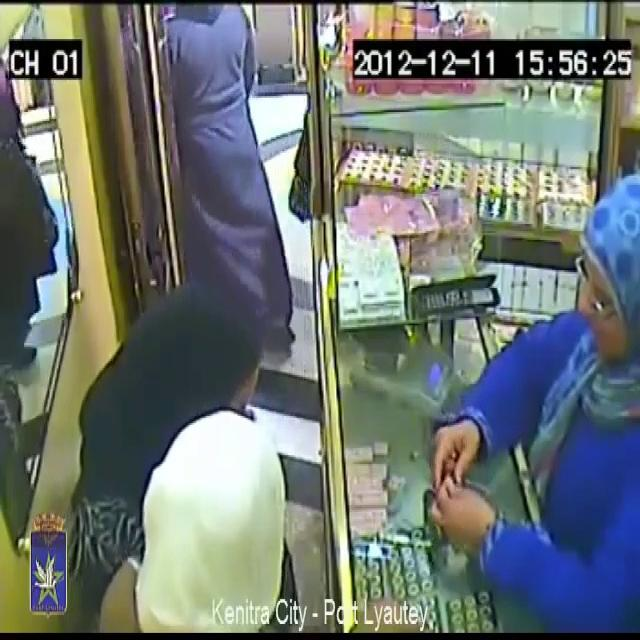Product: (438, 431, 464, 487)
normal: (105, 364, 323, 640), (140, 0, 280, 278), (124, 264, 229, 442)
shoplifting: (382, 144, 640, 627)
